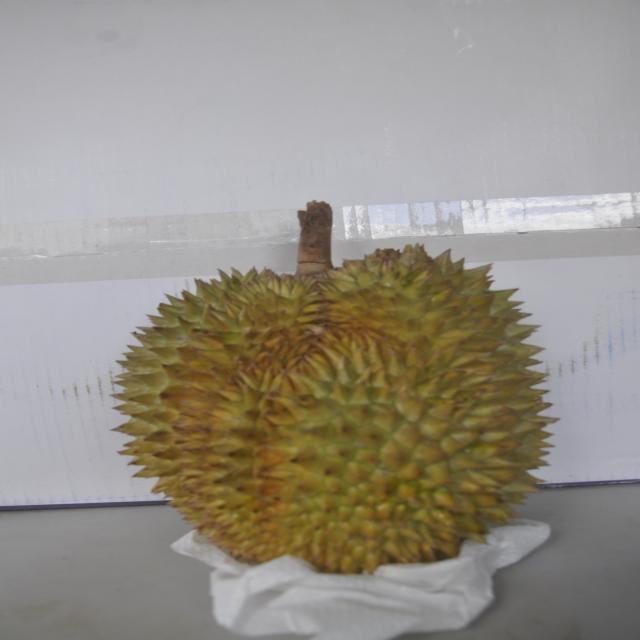mature: (103, 222, 552, 574)
